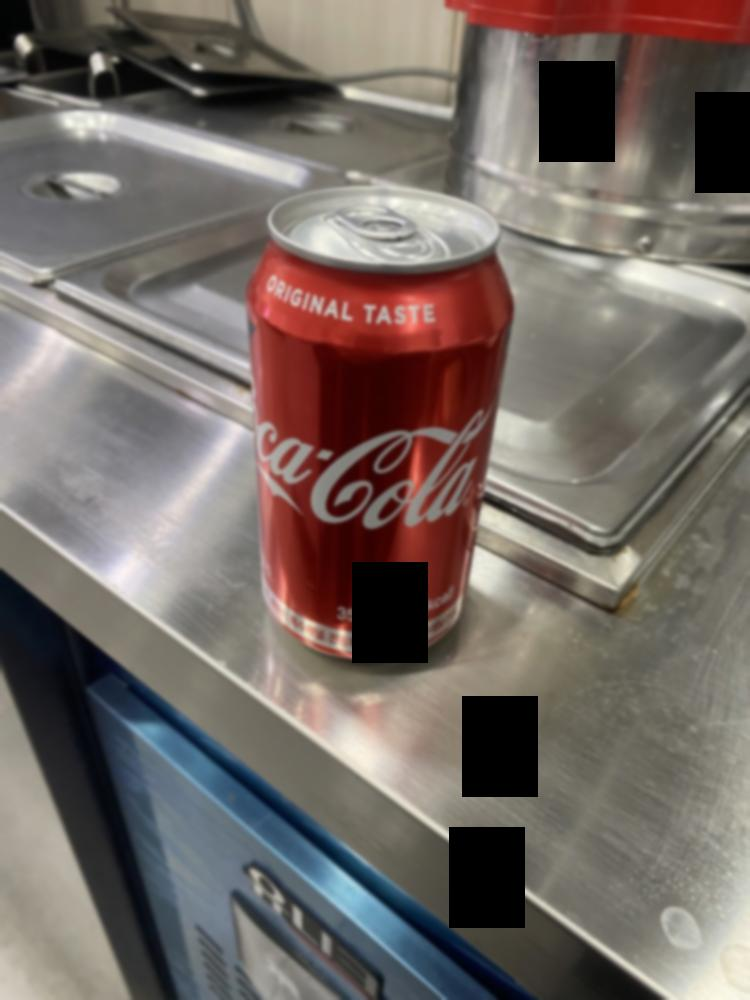cocacola: (243, 188, 506, 668)
